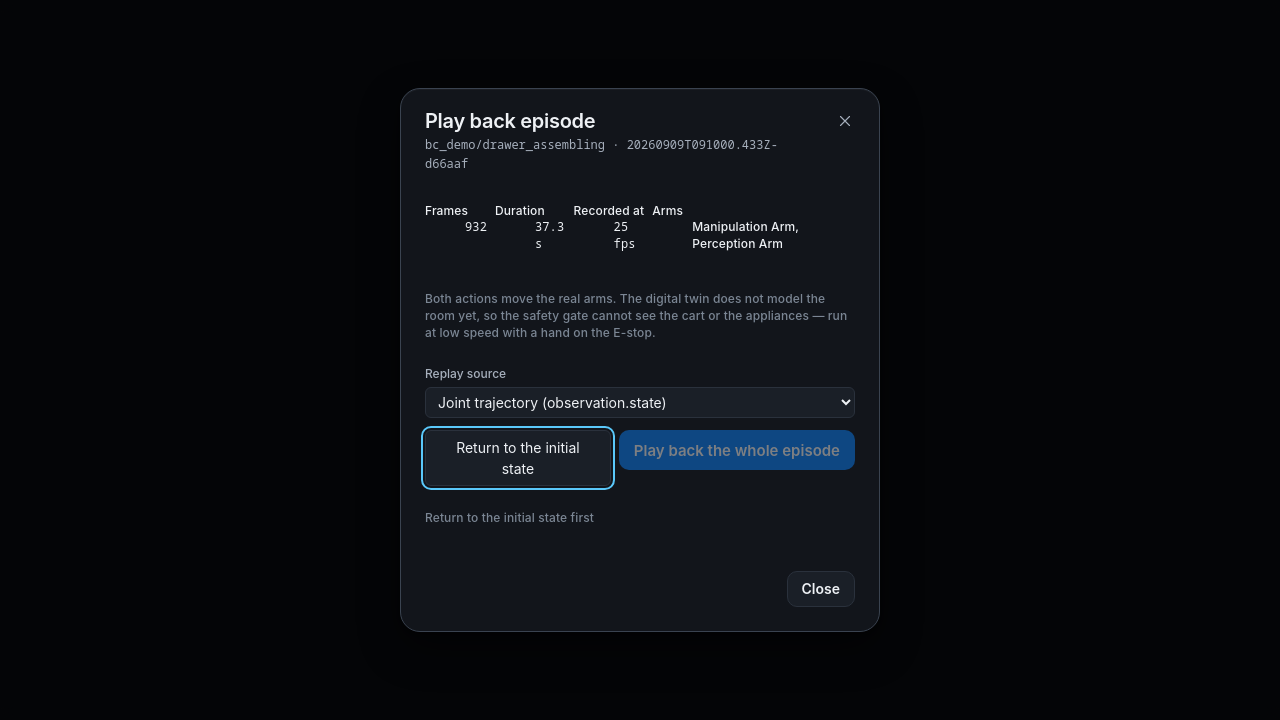
PlaybackDialog › a successful return unlocks Playback and sends the right body
The width and height of the screenshot is (1280, 720).
Expected: the element with test id "playback-meta" is shown, [425, 200, 855, 255]
Click the button with test id "playback-goto-initial".
click(518, 458)  # box [425, 430, 611, 486]
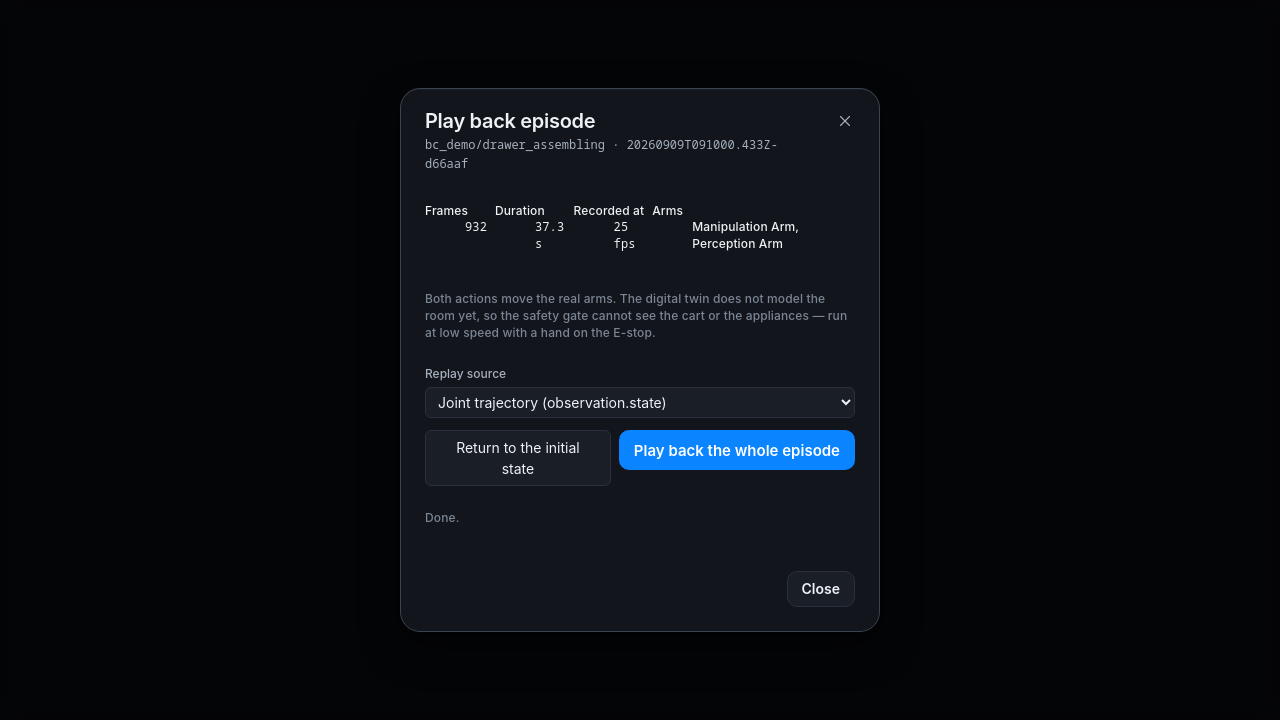
Expected: the button with test id "playback-play" is enabled, [619, 430, 855, 470]
Expected: the text with test id "playback-play-reason" is gone
